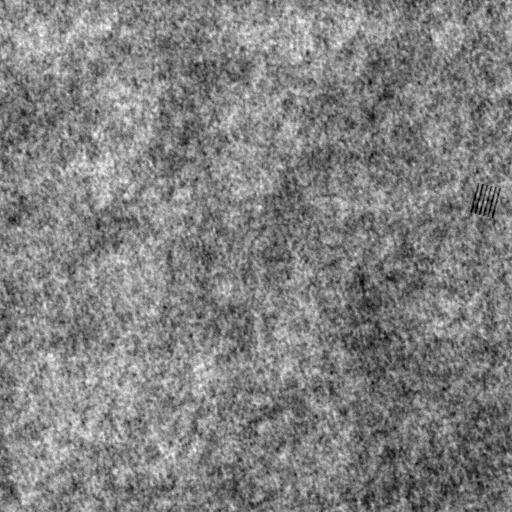DefectTypeB: (473, 182, 499, 219)
